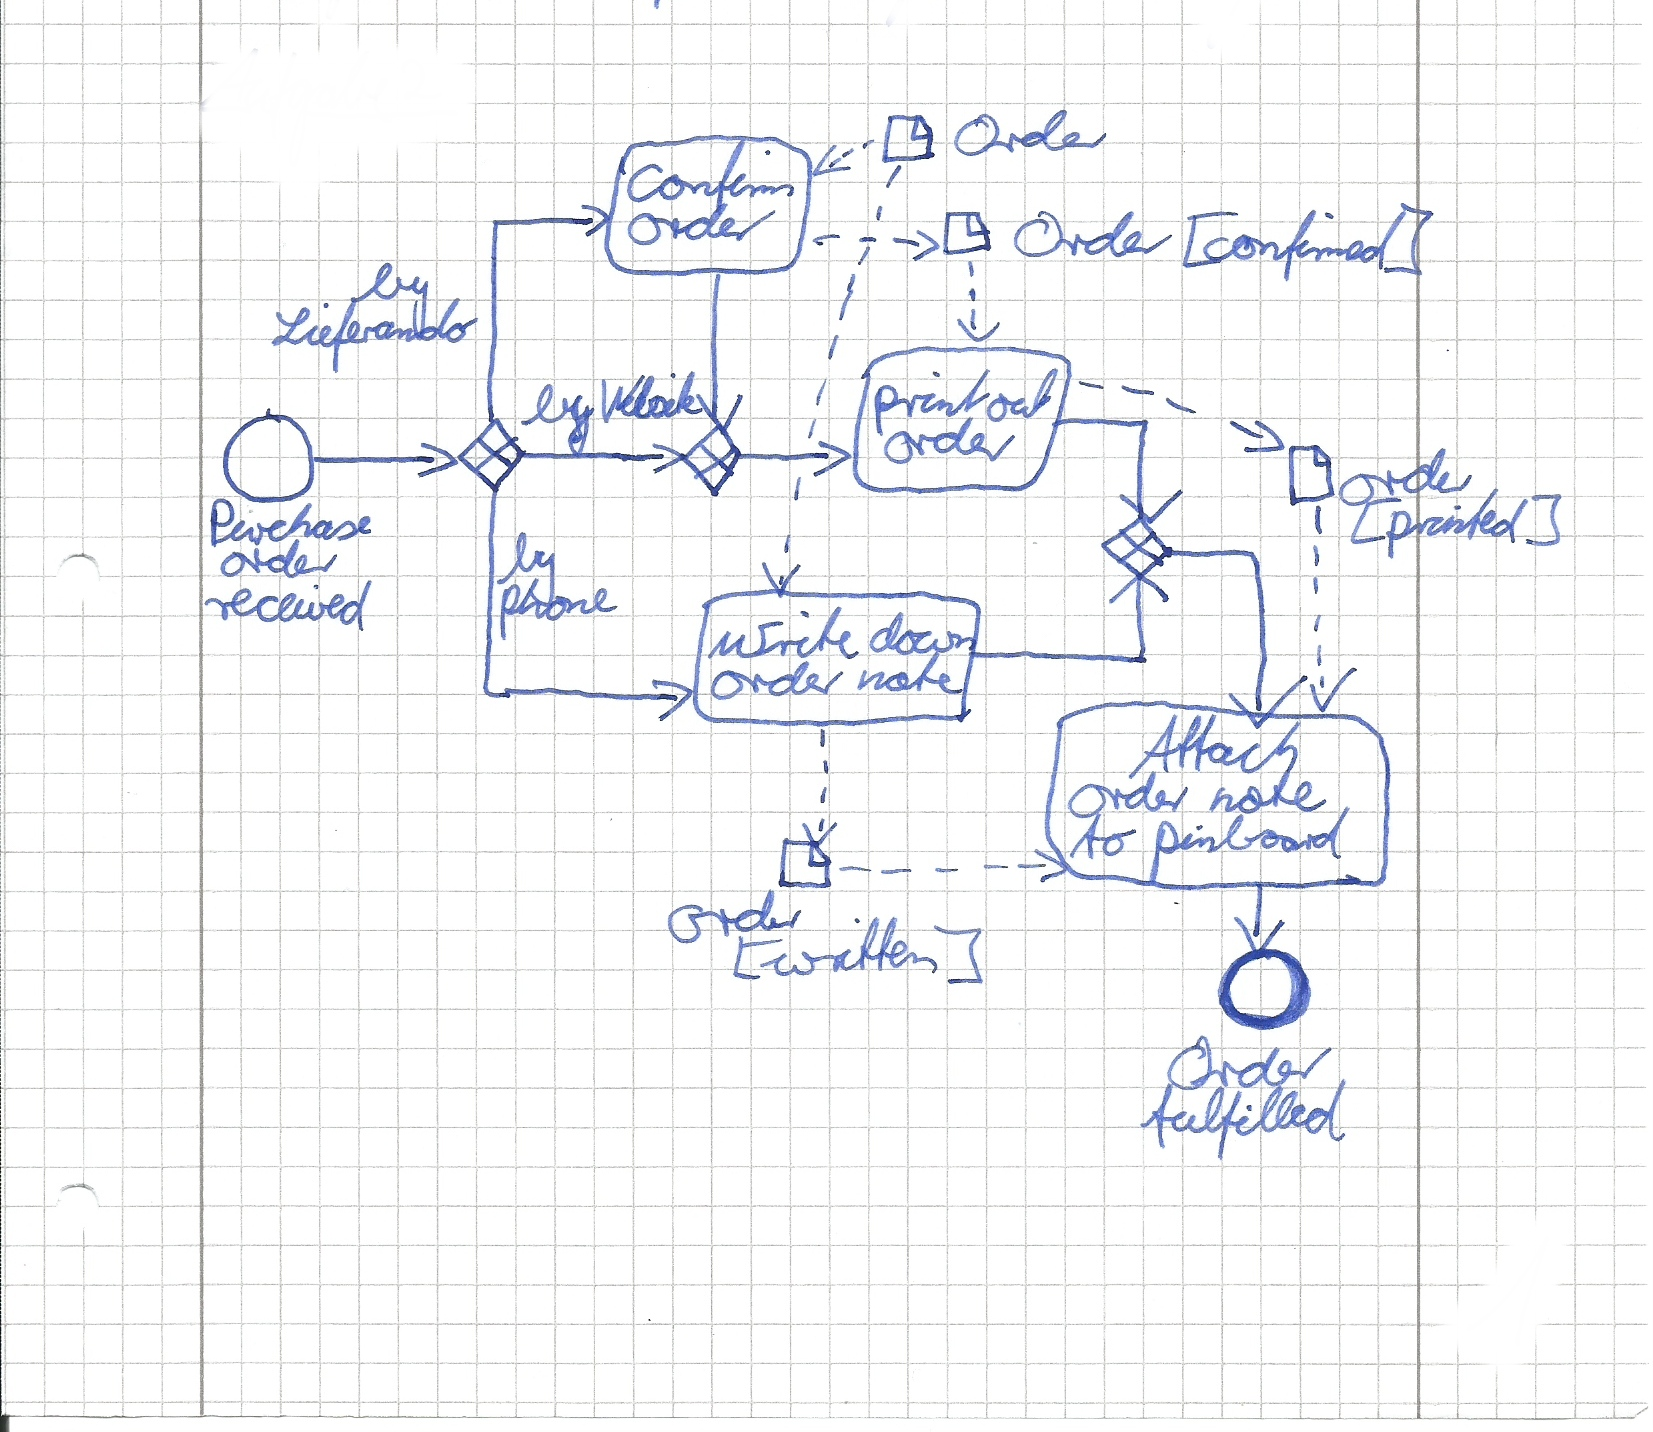Attach: (1122, 712, 1310, 774)
Confirm: (625, 141, 797, 209)
Lieferando: (270, 297, 484, 360)
Order: (1009, 204, 1174, 266), (1162, 1034, 1335, 1091)
Ordner: (952, 108, 1110, 157)
Purchase: (207, 496, 375, 547)
Website: (595, 370, 706, 424)
[confirmed]: (1181, 204, 1432, 280)
[printed]: (1354, 490, 1567, 554)
[written]: (731, 918, 987, 985)
by: (360, 254, 434, 332), (526, 377, 590, 451), (506, 528, 562, 594)
down: (867, 611, 978, 658)
fulfilled: (1143, 1081, 1352, 1157)
note: (1206, 772, 1328, 819), (855, 652, 961, 697)
order: (1337, 445, 1477, 506), (665, 890, 807, 944), (625, 200, 777, 247), (881, 417, 1025, 464), (1065, 772, 1193, 821), (706, 659, 848, 703), (218, 542, 340, 579)
phone: (498, 575, 616, 644)
pinboard: (1146, 809, 1354, 878)
printout: (871, 365, 1060, 433)
received: (207, 583, 370, 632)
to: (1077, 814, 1136, 863)
write: (717, 604, 869, 659)
